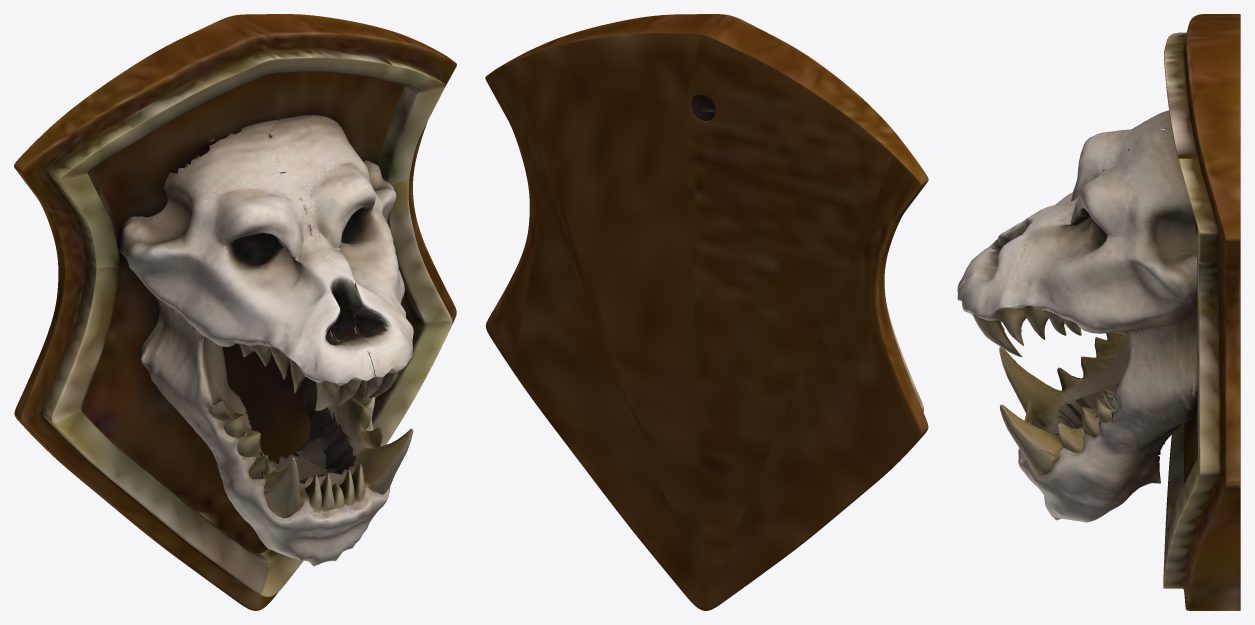
File: MZ4250 - Demogorgon Skull.glb
3 renders of one model, left to right at view 1: azimuth 30°, elevation 25°; view 2: azimuth 150°, elevation 25°; view 3: azimuth 270°, elevation 25°, orthographic.
Parts seen in each view (by area): view 1: Cube.001; view 2: Cube.001; view 3: Cube.001.
Part boxes in pixels (x1=…): Cube.001: x1=14, y1=14, x2=456, y2=610; Cube.001: x1=485, y1=14, x2=928, y2=610; Cube.001: x1=957, y1=14, x2=1240, y2=610.
Size of the model in its own units: 173 by 218 by 97.75.
Materials: 2 (2 with a texture image).
